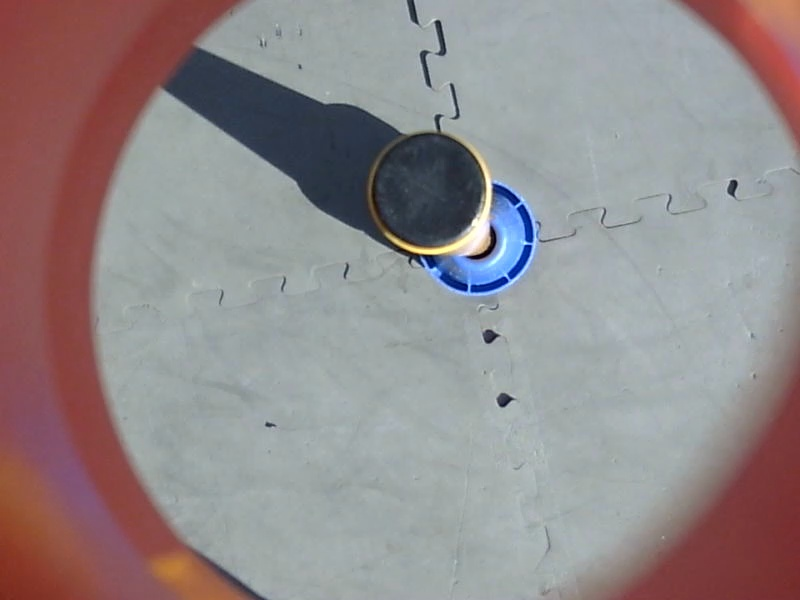tip: (360, 124, 500, 262)
